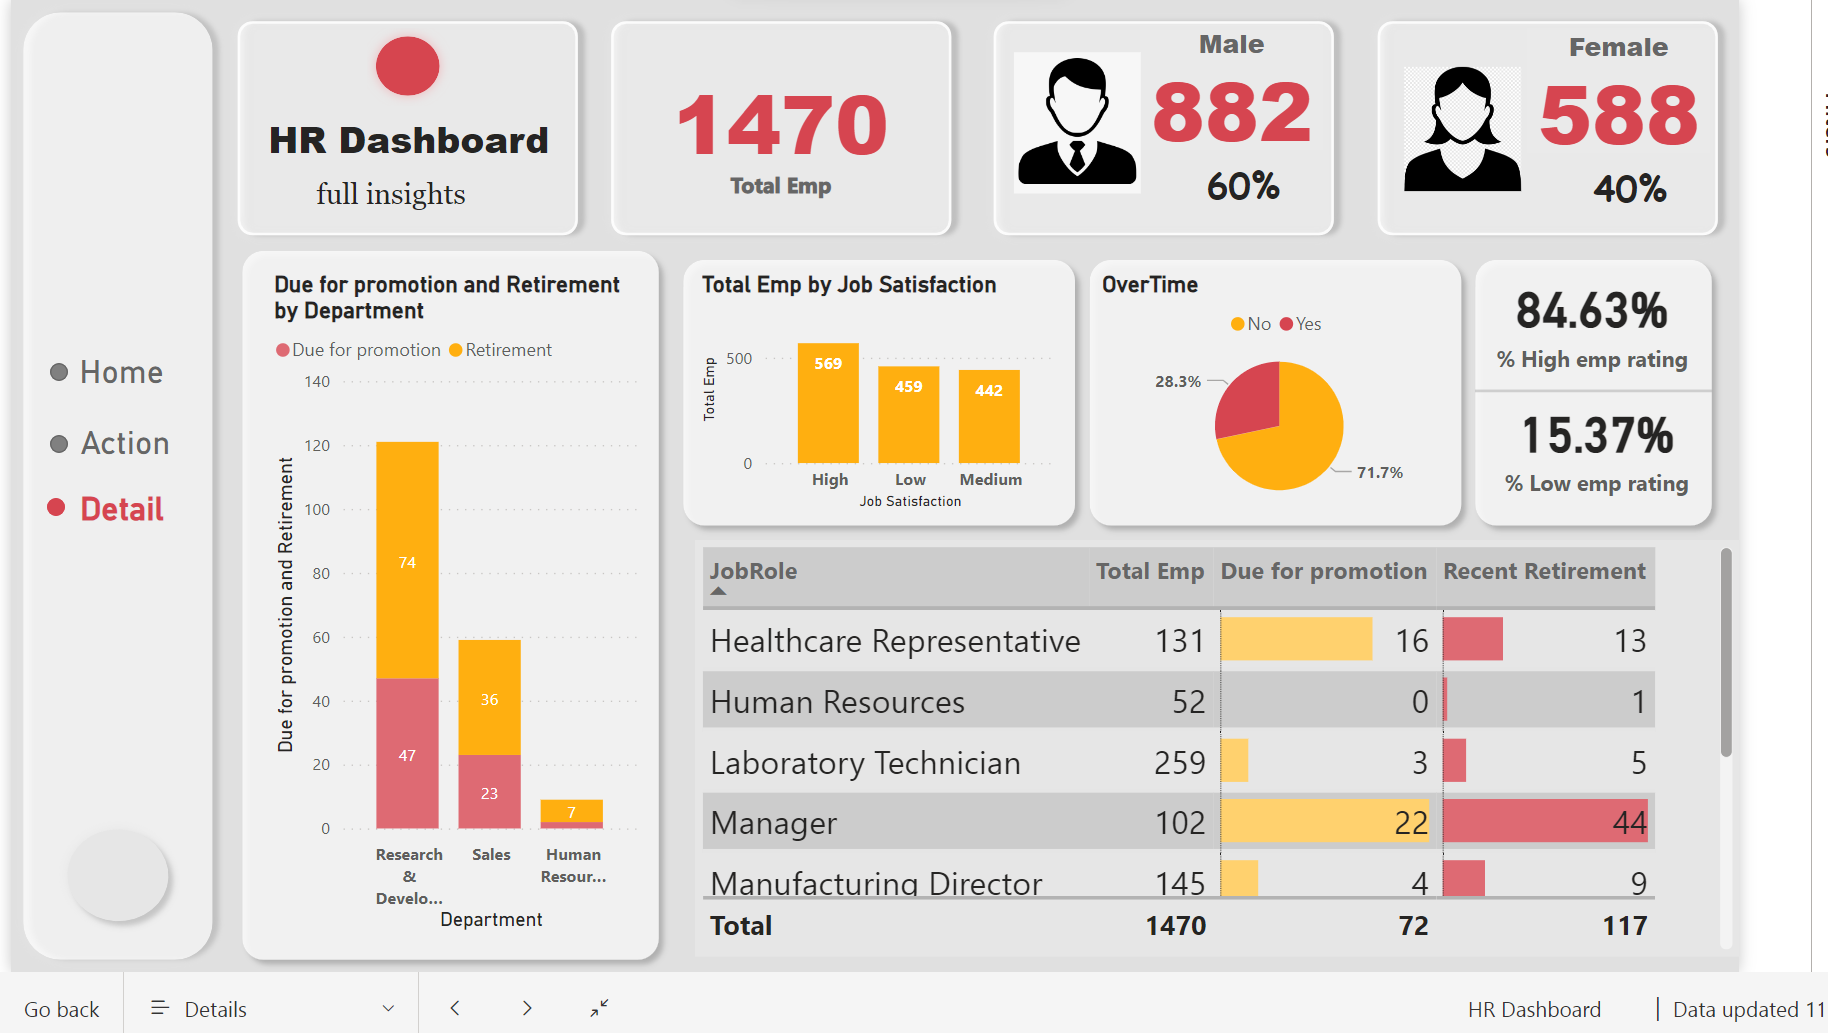

The page's visual inventory and layout, read from the dashboard file:
{"tool":"powerbi","page":{"name":"Details","canvas":[1280,720],"ordinal":1},"visuals":[{"type":"shape","box":[0,0,158.3,720],"z":0},{"type":"shape","box":[30,603.3,98.3,90],"z":1000},{"type":"shape","box":[158.3,6.7,270,176.7],"z":2000},{"type":"shape","box":[435,6.7,270,176.7],"z":3000},{"type":"shape","box":[718.3,6.7,270,176.7],"z":4000},{"type":"shape","box":[1003.3,6.7,270,176.7],"z":5000},{"type":"textbox","box":[185,78.3,226.7,98.3],"z":6000},{"type":"shape","box":[261.7,18.3,63.3,60],"z":7000},{"type":"card","fields":{"Values":["Measures (2).Total Employees"]},"box":[456.7,18.3,226.7,158.3],"z":8000},{"type":"card","title":"Male","fields":{"Values":["Measures (2).Male"]},"box":[836.7,18.3,135,91.7],"z":9000},{"type":"card","fields":{"Values":["Measures (2).Male %"]},"box":[873.3,110,78.3,55],"z":10000},{"type":"card","title":"Female","fields":{"Values":["Measures (2).Female"]},"box":[1123.4,20.9,135,91.7],"z":11000},{"type":"card","fields":{"Values":["Measures (2).%Female"]},"box":[1160.1,112.5,78.3,55],"z":12000},{"type":"image","box":[1026.7,41.7,96.7,106.7],"z":13000},{"type":"image","box":[725,33.3,128.3,115],"z":14000},{"type":"shape","box":[28.3,368.3,13.3,13.3],"z":15000},{"type":"shape","box":[161.7,176.7,326.7,543.3],"z":16000},{"type":"columnChart","fields":{"Category":["HR Analytics Data.Department"],"Y":["Measures (2).Due for promotion","Measures (2).Retirement"]},"box":[190,200,280,493.3],"z":17000},{"type":"shape","box":[488.3,183.3,308.3,215],"z":18000},{"type":"clusteredColumnChart","fields":{"Category":["HR Analytics Data.Job Satisfaction"],"Y":["Measures (2).Total Emp"]},"box":[506.7,200,271.7,181.7],"z":19000},{"type":"shape","box":[1075,183.3,193.3,215],"z":20000},{"type":"shape","box":[1084.5,282.4,176.1,14.7],"z":21000},{"type":"card","fields":{"Values":["Measures (2).% High emp rating"]},"box":[1083.3,176.7,175,120],"z":22000},{"type":"card","fields":{"Values":["Measures (2).% Low emp rating"]},"box":[1086.7,268.3,175,120],"z":23000},{"type":"shape","box":[790,183.3,293.3,215],"z":24000},{"type":"pieChart","title":"OverTime","fields":{"Y":["Measures (2).Total Emp"],"Category":["HR Analytics Data.OverTime"]},"box":[803.3,200,271.7,181.7],"z":25000},{"type":"tableEx","fields":{"Values":["HR Analytics Data.JobRole","Measures (2).Total Emp","Measures (2).Due for promotion","Measures (2).Retirement"]},"box":[506.7,400,773.3,308.3],"z":26000},{"type":"actionButton","title":"Detail","box":[11.7,361.7,140,40],"z":27000},{"type":"actionButton","title":"Action","box":[15,313.3,138.3,58.3],"z":28000},{"type":"actionButton","title":"Home","box":[12.3,261.6,139.8,54.1],"z":29000},{"type":"shape","box":[26.7,368.3,13.3,13.3],"z":30000},{"type":"shape","box":[28.3,321.7,13.3,13.3],"z":31000},{"type":"shape","box":[28.3,268.3,13.3,13.3],"z":32000}]}

Visuals, with their boxes on the page's 1280x720 design canvas (x1, y1, x2, y2). These are canvas units, not pixel positions in the 1828x1033 screenshot, which may show the page scaled, cropped or inside an application window:
shape: [0,0,158,720]
shape: [30,603,128,693]
shape: [158,7,428,183]
shape: [435,7,705,183]
shape: [718,7,988,183]
shape: [1003,7,1273,183]
textbox: [185,78,412,177]
shape: [262,18,325,78]
card - Measures (2).Total Employees: [457,18,683,177]
"Male" card: [837,18,972,110]
card - Measures (2).Male %: [873,110,952,165]
"Female" card: [1123,21,1258,113]
card - Measures (2).%Female: [1160,112,1238,168]
image: [1027,42,1123,148]
image: [725,33,853,148]
shape: [28,368,42,382]
shape: [162,177,488,720]
columnChart - HR Analytics Data.Department x Measures (2).Due for promotion: [190,200,470,693]
shape: [488,183,797,398]
clusteredColumnChart - HR Analytics Data.Job Satisfaction x Measures (2).Total Emp: [507,200,778,382]
shape: [1075,183,1268,398]
shape: [1084,282,1261,297]
card - Measures (2).% High emp rating: [1083,177,1258,297]
card - Measures (2).% Low emp rating: [1087,268,1262,388]
shape: [790,183,1083,398]
"OverTime" pieChart: [803,200,1075,382]
tableEx - HR Analytics Data.JobRole x Measures (2).Total Emp: [507,400,1280,708]
"Detail" actionButton: [12,362,152,402]
"Action" actionButton: [15,313,153,372]
"Home" actionButton: [12,262,152,316]
shape: [27,368,40,382]
shape: [28,322,42,335]
shape: [28,268,42,282]
